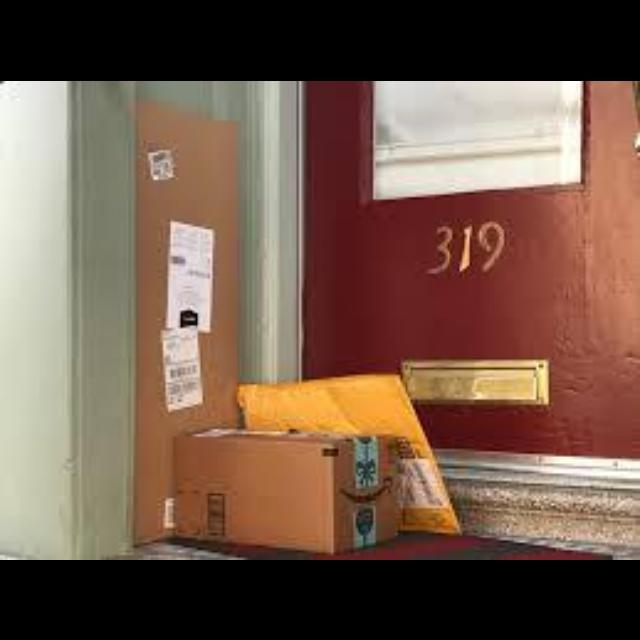box: (133, 102, 237, 542), (175, 431, 395, 549)
mailer: (240, 374, 457, 530)
